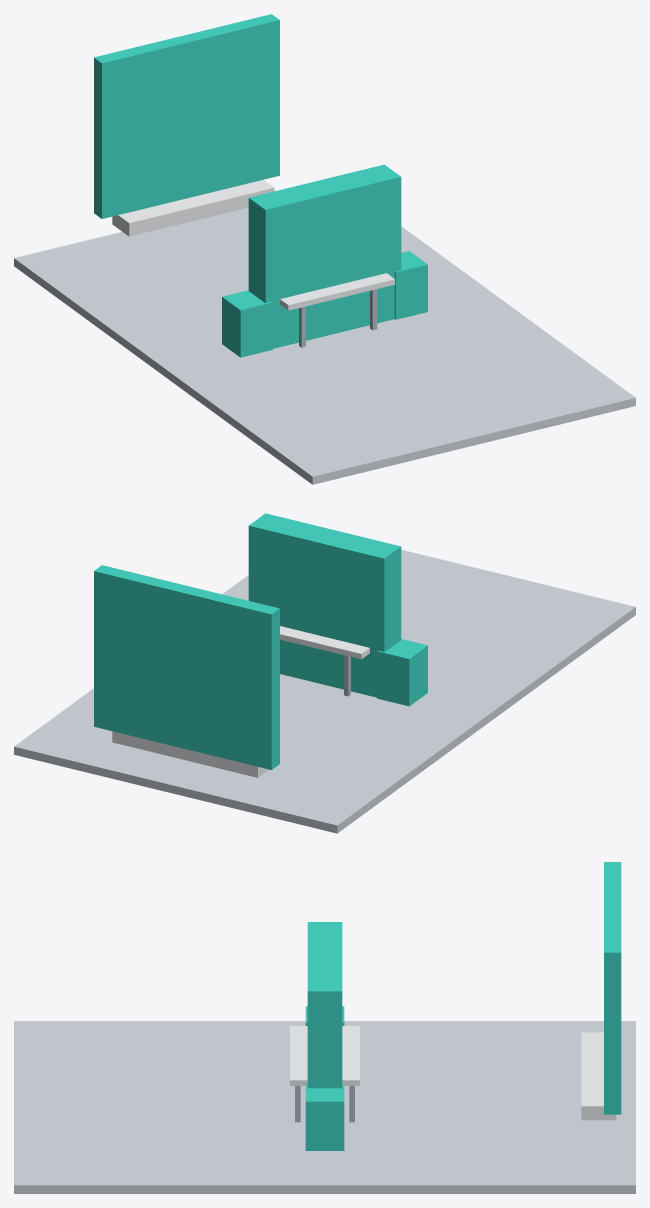
The picture shows the model from 3 angles, top to bottom: view 1: azimuth 30°, elevation 25°; view 2: azimuth 150°, elevation 25°; view 3: azimuth 270°, elevation 25°; orthographic projection. The views are drawn at different scales.
Visible parts, largest first — view 1: Exhibition Booth Concept; view 2: Exhibition Booth Concept; view 3: Exhibition Booth Concept.
Part boxes in pixels (x1,y1,x2,y2): Exhibition Booth Concept: (14,14,635,484); Exhibition Booth Concept: (14,513,635,833); Exhibition Booth Concept: (14,862,635,1193).
Size of the model in its own units: 5 by 2.9 by 8.
